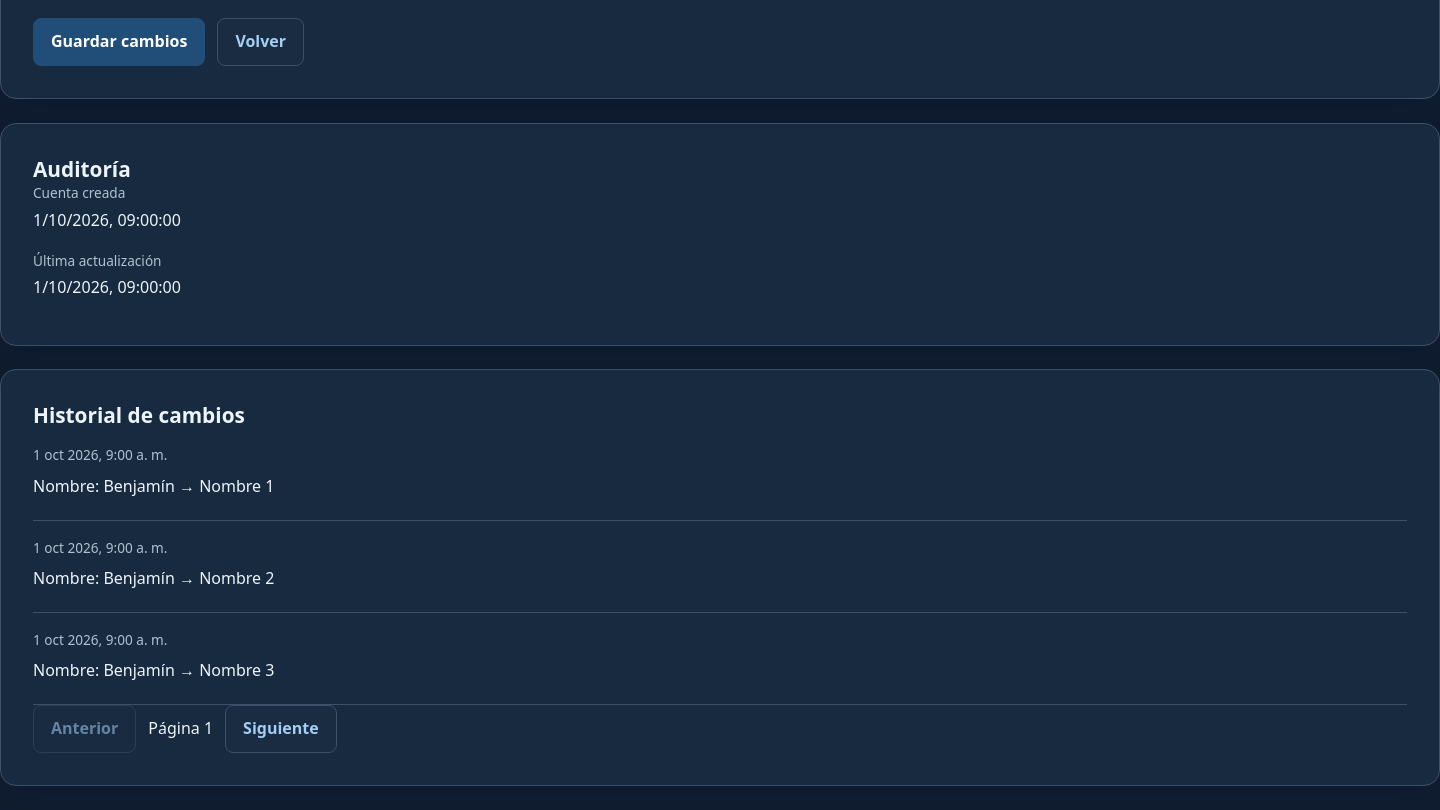
Test case: paginates private field history in groups of three
(page scrolled)
expect the text "Nombre: Benjamín → Nombre 1" is shown: met, box [33,475,274,497]
expect the text "Nombre: Benjamín → Nombre 3" is shown: met, box [33,659,274,681]
What coordinates should you click on to do the following:
click the button "Siguiente"
I would click on:
 (281, 729)
Its box is [225,705,337,753].
(page scrolled)
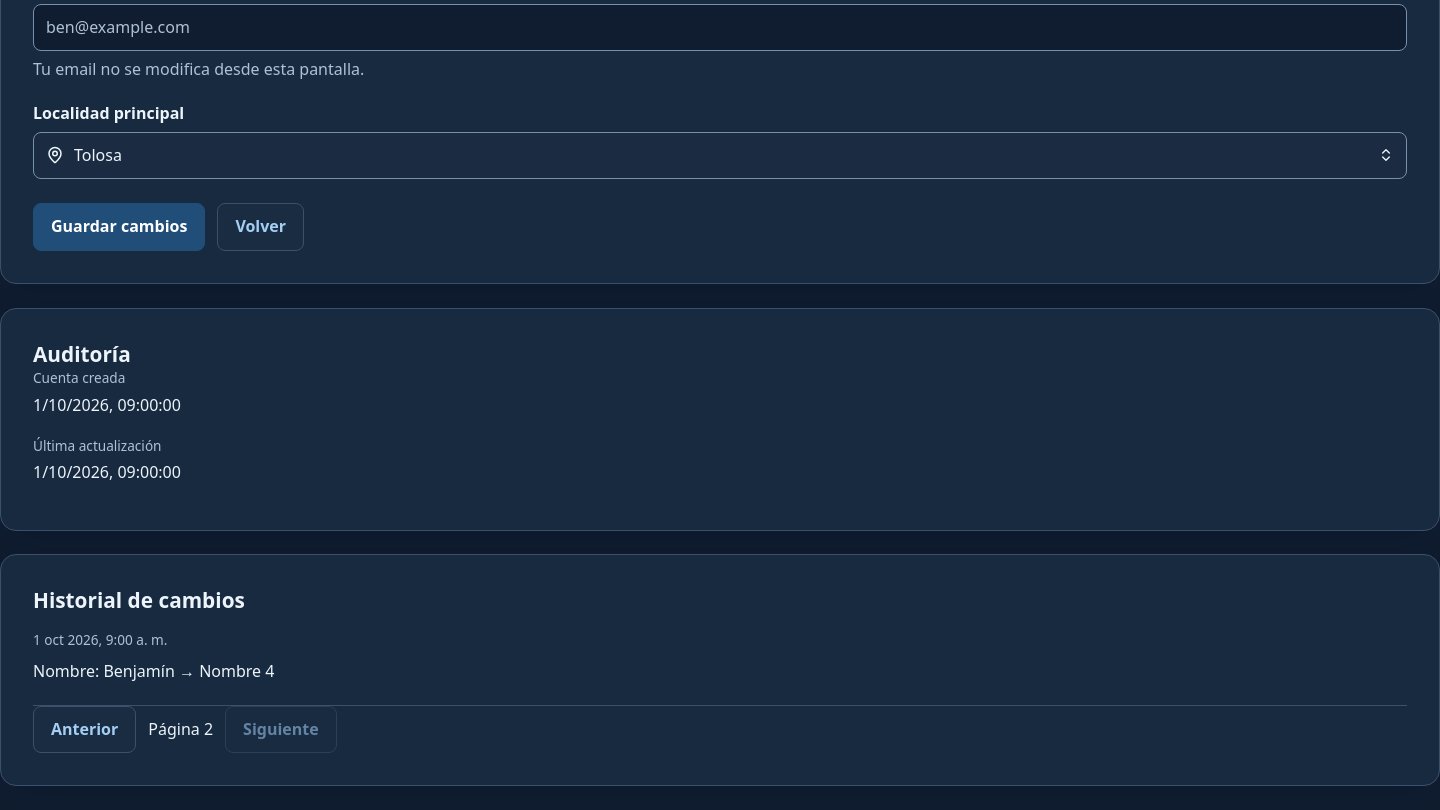
expect the text "Nombre: Benjamín → Nombre 4" is shown: met, box [33,660,274,682]
expect the button "Siguiente" is disabled: met, box [225,706,337,753]
expect the button "Anterior" is enabled: met, box [33,706,136,753]
